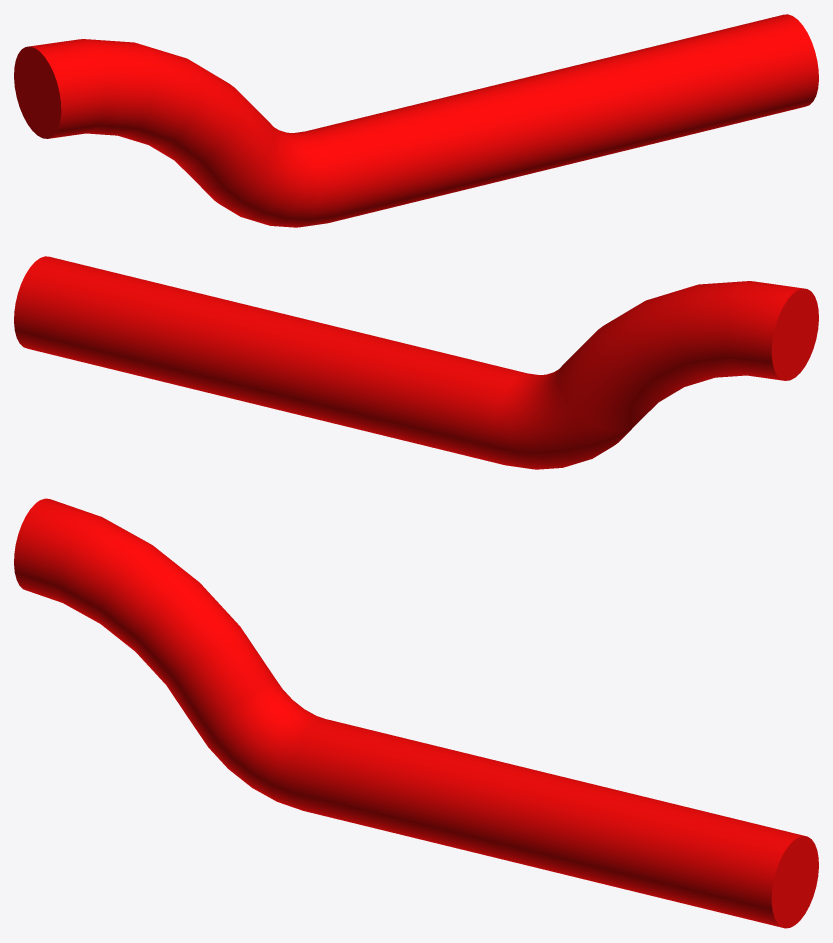
Rendered from REV_11_2159_P08__REV_11_2159_P08.gltf.
3 renders of one model, top to bottom at view 1: azimuth 30°, elevation 25°; view 2: azimuth 150°, elevation 25°; view 3: azimuth 330°, elevation 25°, orthographic.
Parts seen in each view (by area): view 1: mesh84295, mesh84297, mesh84296, mesh84298; view 2: mesh84295, mesh84297, mesh84296, mesh84298; view 3: mesh84295, mesh84297, mesh84296, mesh84294.
Part boxes in pixels (<box>): mesh84295: <box>306,14,818,222</box>; mesh84297: <box>29,39,273,189</box>; mesh84296: <box>200,122,338,227</box>; mesh84298: <box>14,46,61,138</box>; mesh84295: <box>14,256,526,464</box>; mesh84297: <box>559,281,803,431</box>; mesh84296: <box>494,364,632,469</box>; mesh84298: <box>771,288,818,380</box>; mesh84295: <box>291,719,805,927</box>; mesh84297: <box>14,498,273,723</box>; mesh84296: <box>192,677,324,810</box>; mesh84294: <box>771,836,818,928</box>.
Size of the model in its own units: 0.0415 by 0.0125 by 0.00449.
